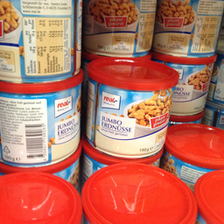nuts: (86, 56, 181, 160), (1, 75, 84, 168), (1, 1, 82, 84), (83, 1, 157, 56), (150, 1, 223, 54), (155, 54, 217, 116)
